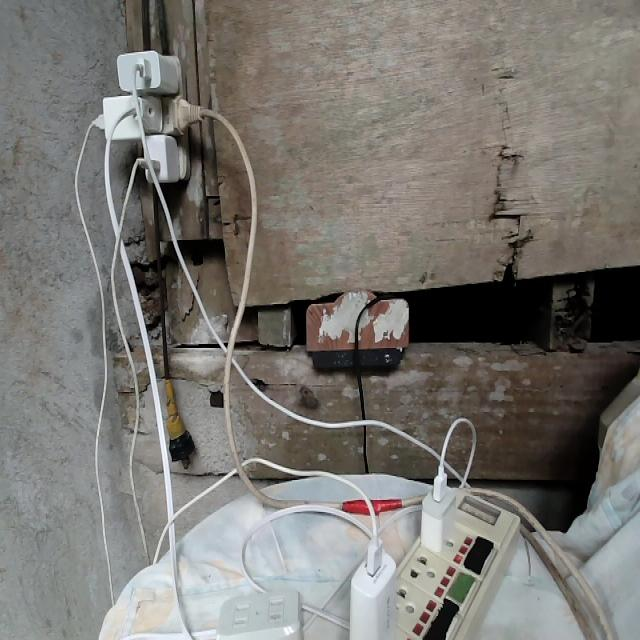-: (91, 48, 219, 183)
